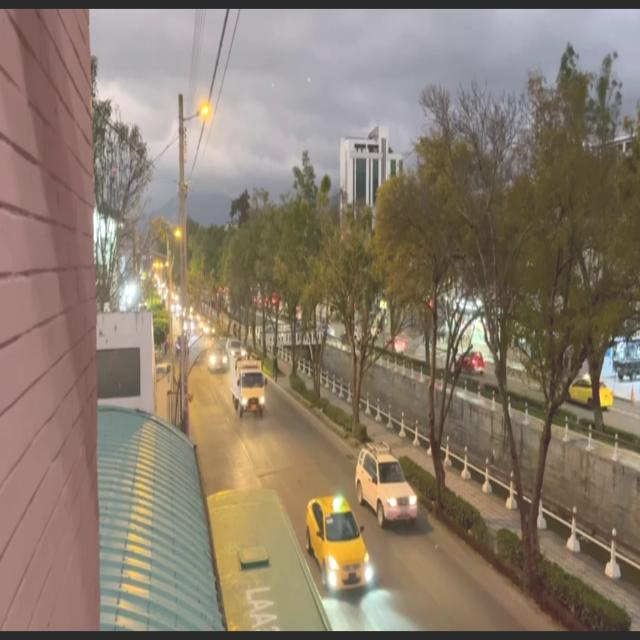SED: (310, 505, 372, 588)
SUV: (358, 451, 415, 523)
TRUCK: (233, 358, 266, 417)
